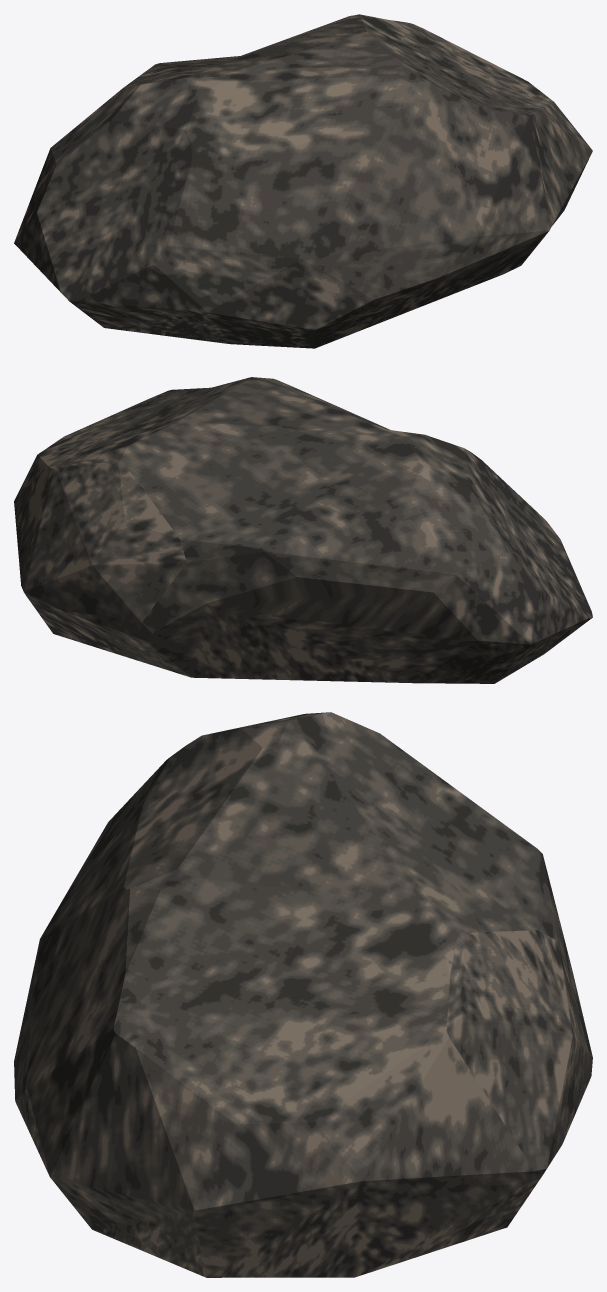
File: rock_3.fbx
3 renders of one model, top to bottom at view 1: azimuth 30°, elevation 25°; view 2: azimuth 150°, elevation 25°; view 3: azimuth 270°, elevation 25°, orthographic. The views are drawn at different scales.
Visible parts, largest first — view 1: Icosphere.001; view 2: Icosphere.001; view 3: Icosphere.001.
Part boxes in pixels (box(x1,y1,x2,y2)): Icosphere.001: box(14, 14, 592, 348); Icosphere.001: box(14, 377, 592, 683); Icosphere.001: box(14, 712, 592, 1277).
Size of the model in its own units: 1626 by 1026 by 679.
